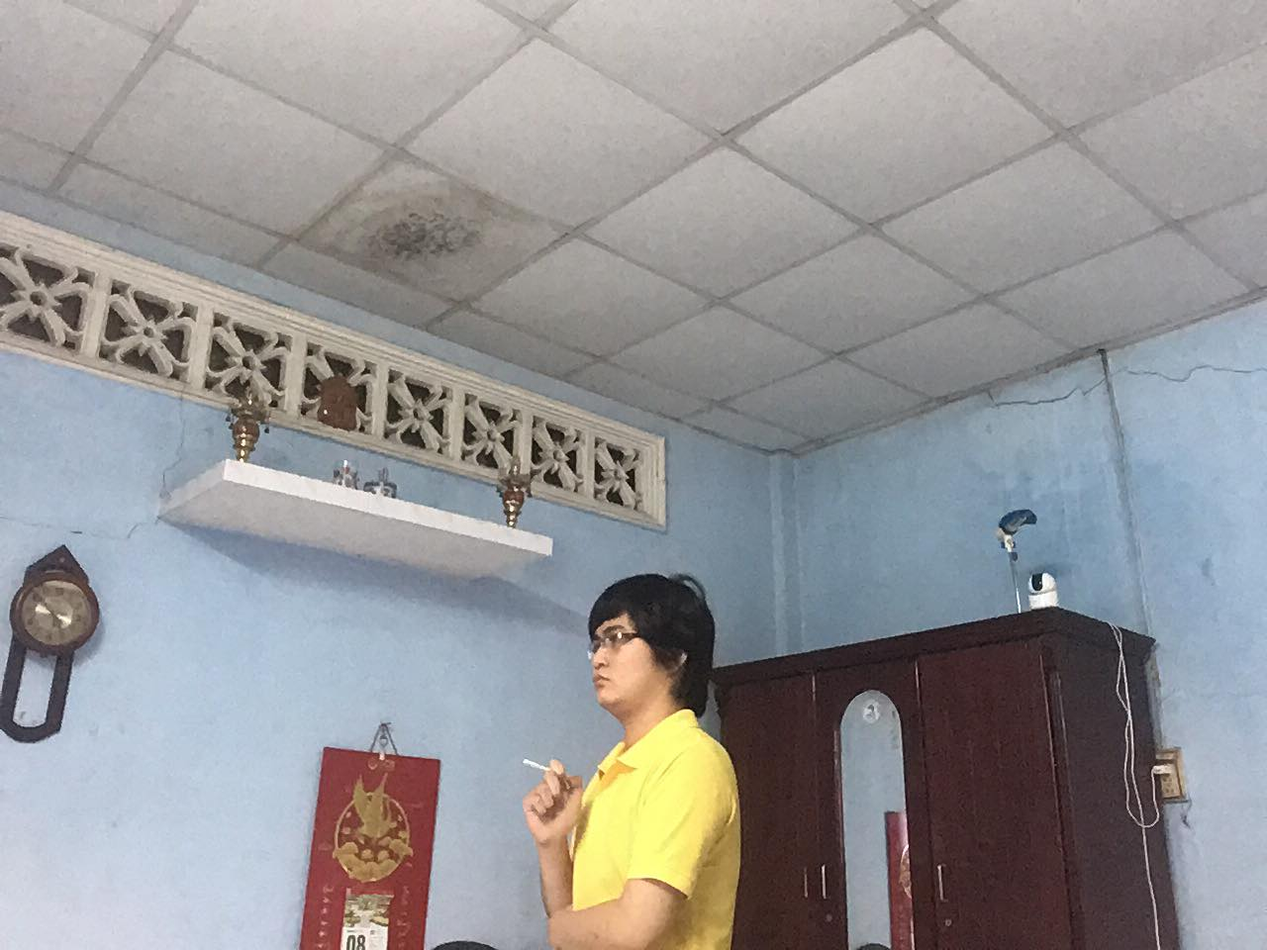cigarette: (518, 755, 550, 774)
person: (509, 571, 738, 948)
